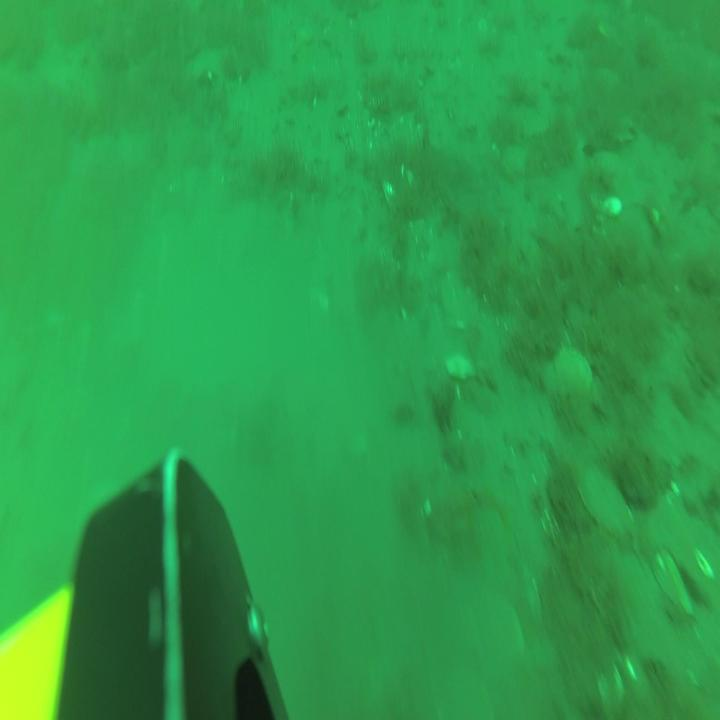scallop: (575, 463, 637, 539), (552, 339, 595, 402), (502, 140, 532, 183)
